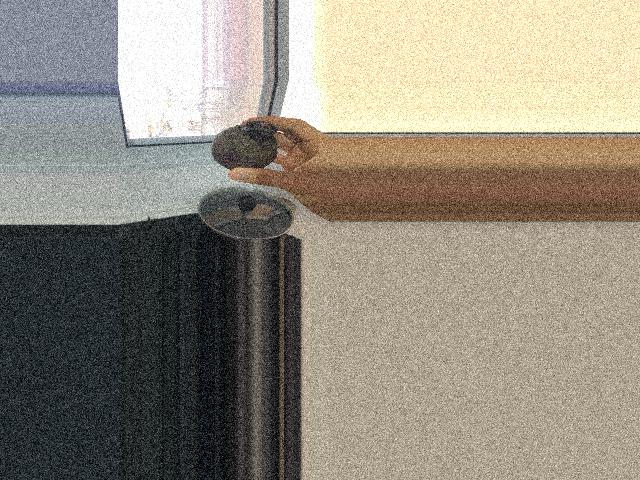beet: (210, 120, 296, 170)
